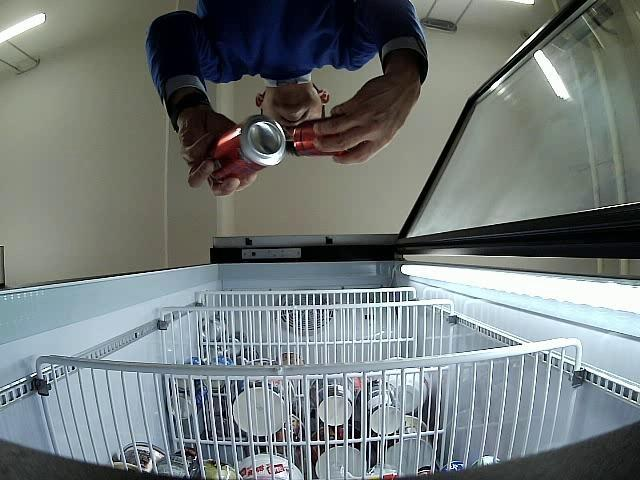11_cocaColaZero: (208, 115, 286, 183), (293, 117, 358, 156)
